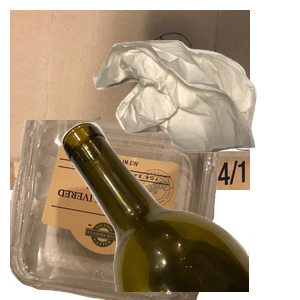cardboard: (10, 10, 250, 190)
glass: (60, 120, 300, 300)
plastic: (10, 120, 227, 300)
trash: (90, 38, 300, 183)
